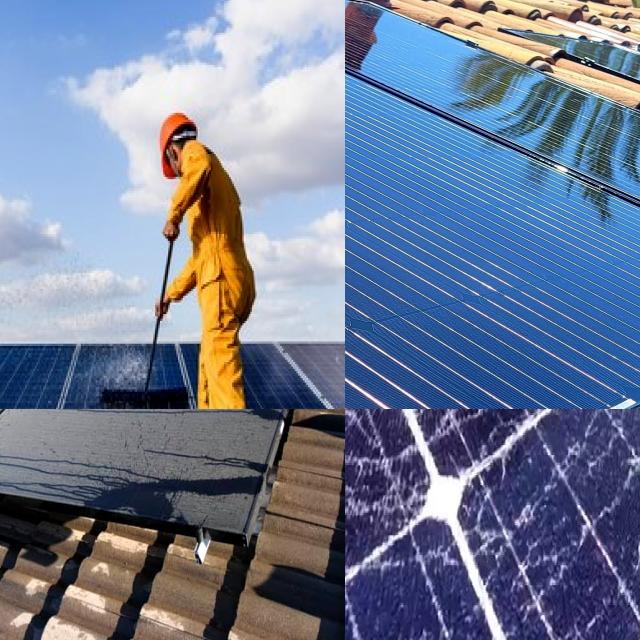crack: (447, 185, 600, 316), (374, 307, 548, 409), (345, 185, 468, 301), (459, 67, 574, 169), (345, 263, 424, 388), (356, 19, 476, 98), (345, 10, 409, 109), (345, 0, 409, 89), (0, 341, 82, 409), (345, 86, 404, 166), (345, 87, 396, 178), (345, 72, 408, 132), (345, 0, 374, 28)
dust: (72, 409, 276, 472), (77, 438, 255, 510), (78, 409, 311, 457), (0, 409, 105, 461), (0, 409, 73, 444), (245, 409, 345, 434), (5, 409, 59, 436)
hotspot: (345, 409, 484, 498)
